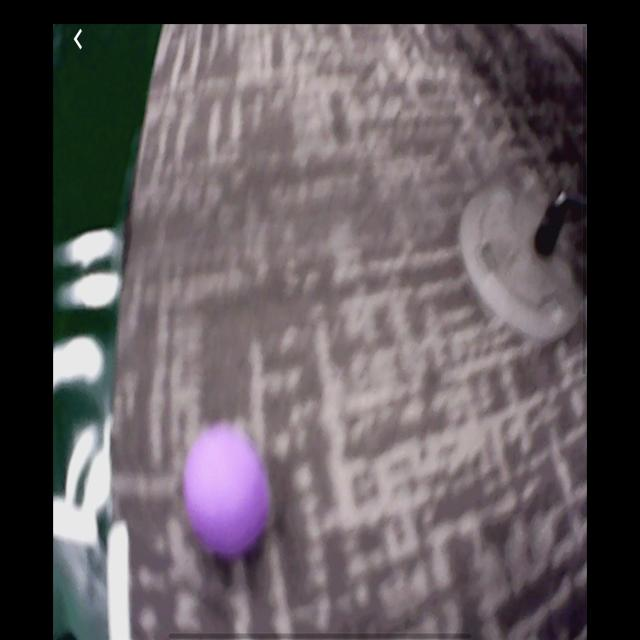ball: (187, 425, 271, 557)
